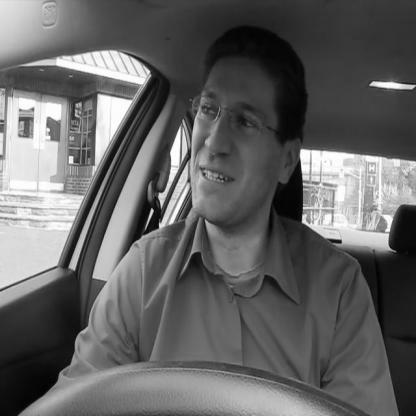no_seatbelt: (132, 13, 304, 406)
